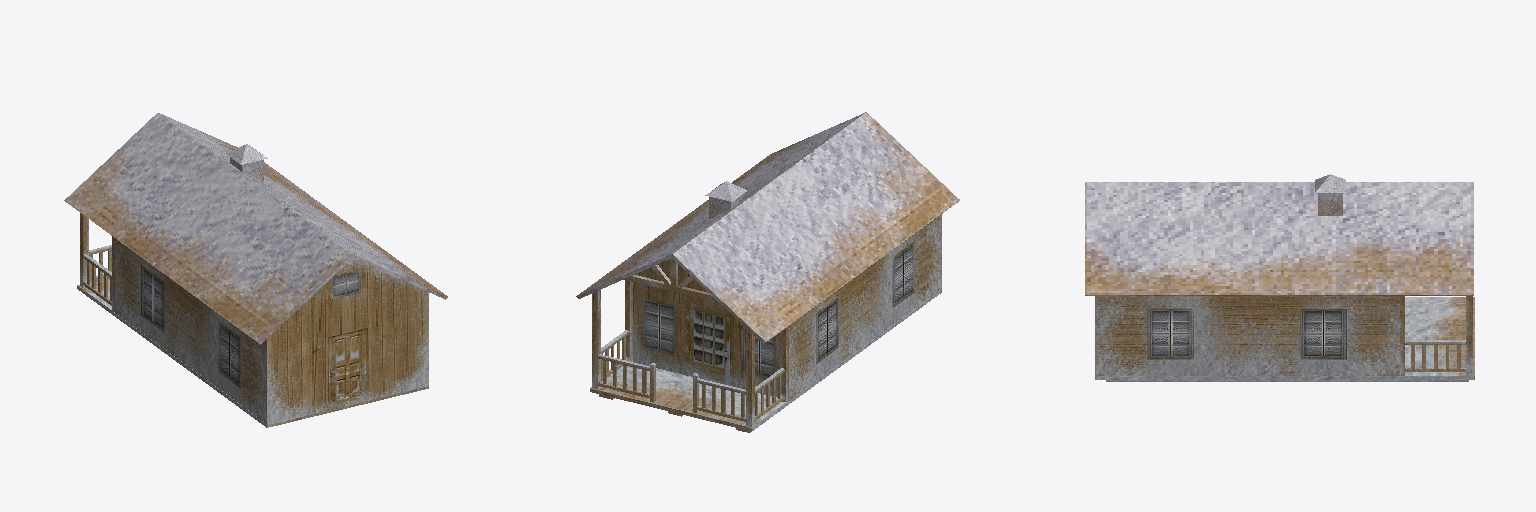
3 renders of one model, left to right at view 1: azimuth 30°, elevation 25°; view 2: azimuth 150°, elevation 25°; view 3: azimuth 270°, elevation 25°, orthographic.
Parts seen in each view (by area): view 1: Cottage_House; view 2: Cottage_House; view 3: Cottage_House.
Part boxes in pixels (left/top/right/bottom): Cottage_House: left=64, top=113, right=447, bottom=427; Cottage_House: left=576, top=112, right=959, bottom=432; Cottage_House: left=1085, top=174, right=1474, bottom=381.
Bounding box in the file's own units: 6.58 × 5.93 × 11.69.
Materials: 1 (1 with a texture image).